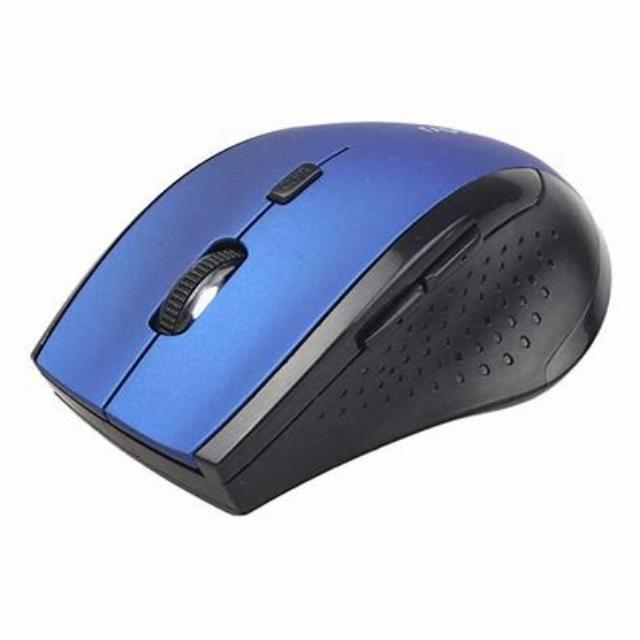Computer-Mouse: (31, 120, 613, 519)
